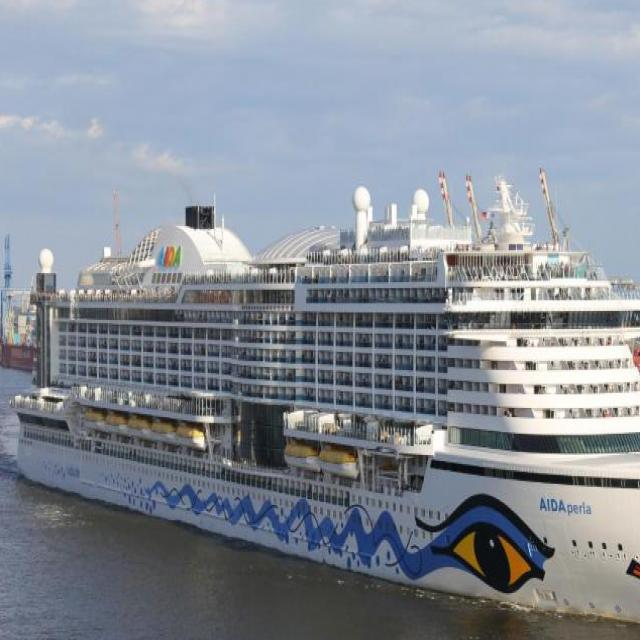cruises: (7, 174, 640, 640)
